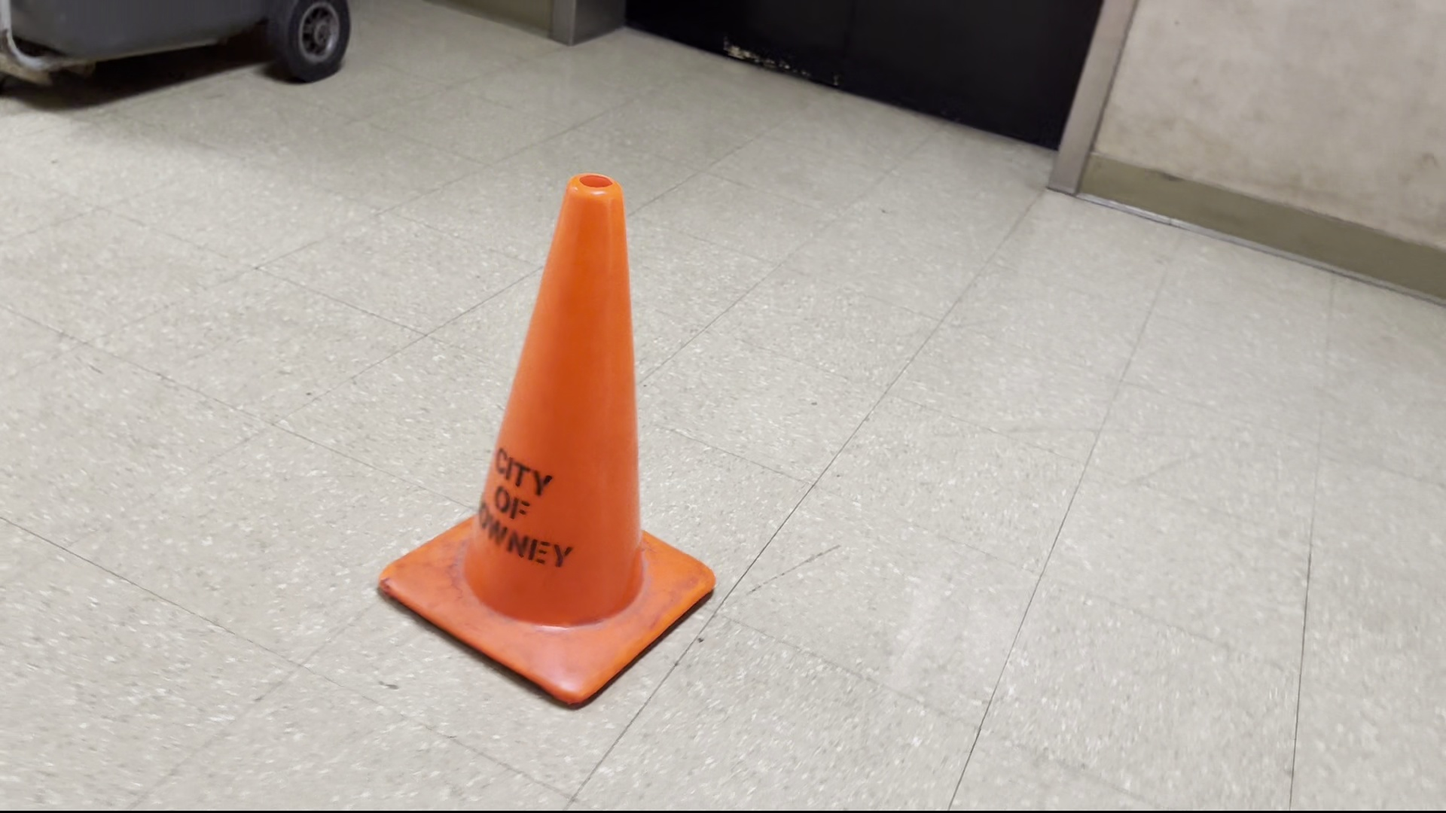traffic_cone: (377, 171, 717, 710)
